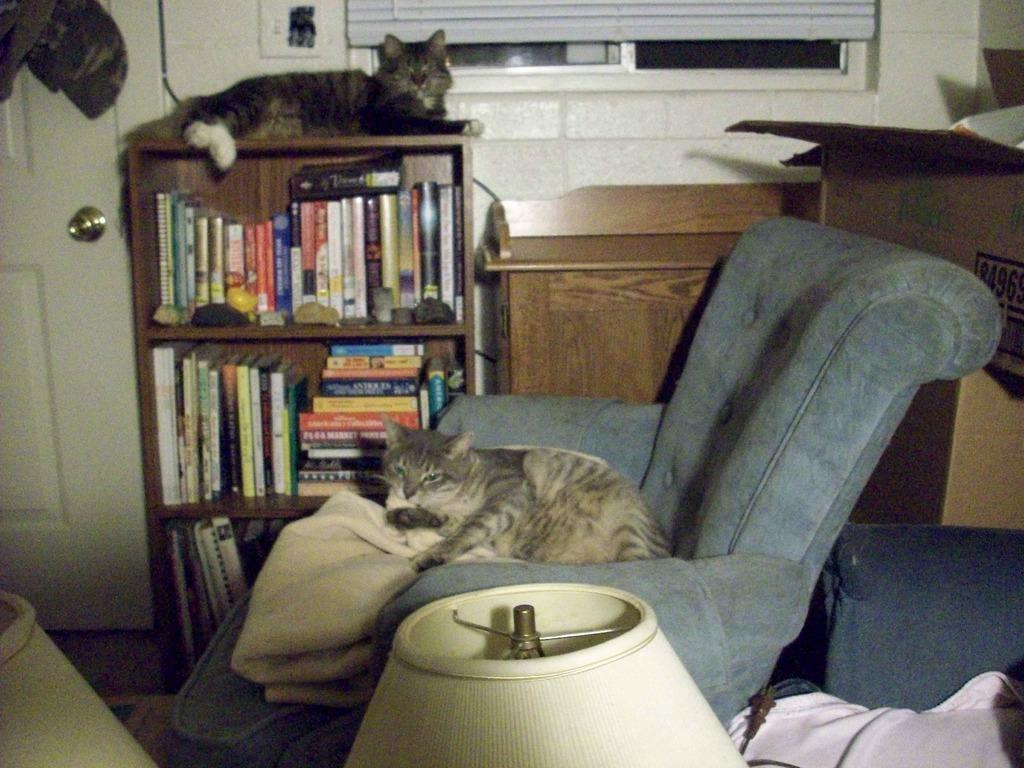Book: (143, 345, 469, 511), (158, 155, 470, 325), (165, 520, 291, 676), (161, 188, 173, 305)
